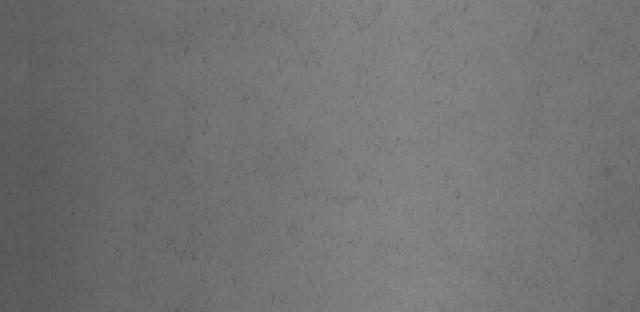silk_spot: (140, 14, 480, 179)
